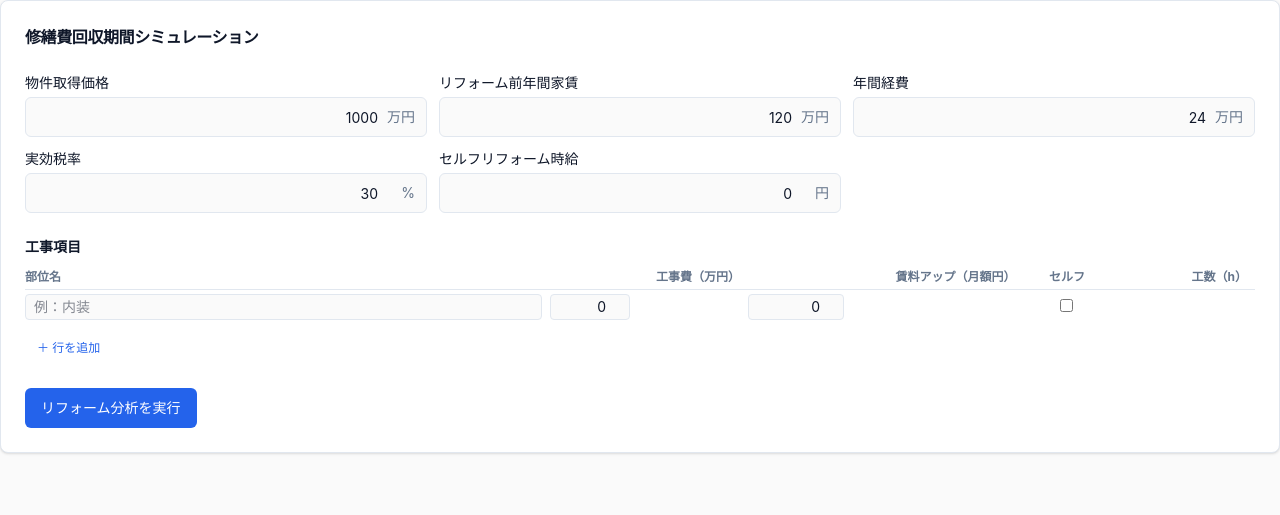
Test case: RenovationPanel › APIエラー時にエラーメッセージが表示される
The image size is (1280, 515).
Replace the text in the 1st number field with "100" at [590, 307], box x1=550 y1=294 x2=630 y2=320
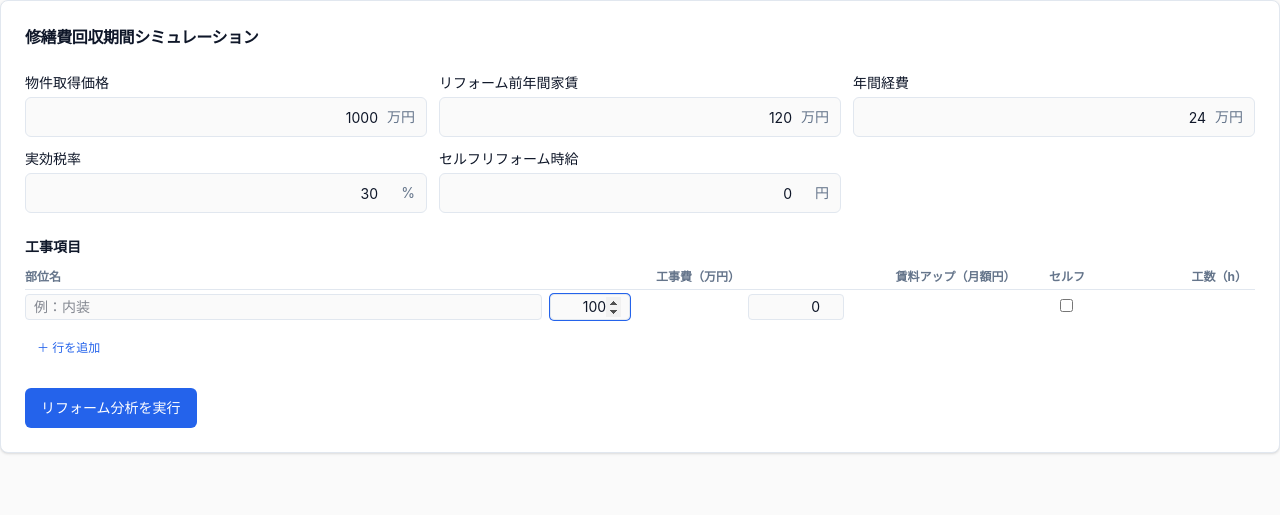
Click the button "リフォーム分析を実行".
click(111, 408)  # box x1=25 y1=388 x2=197 y2=428
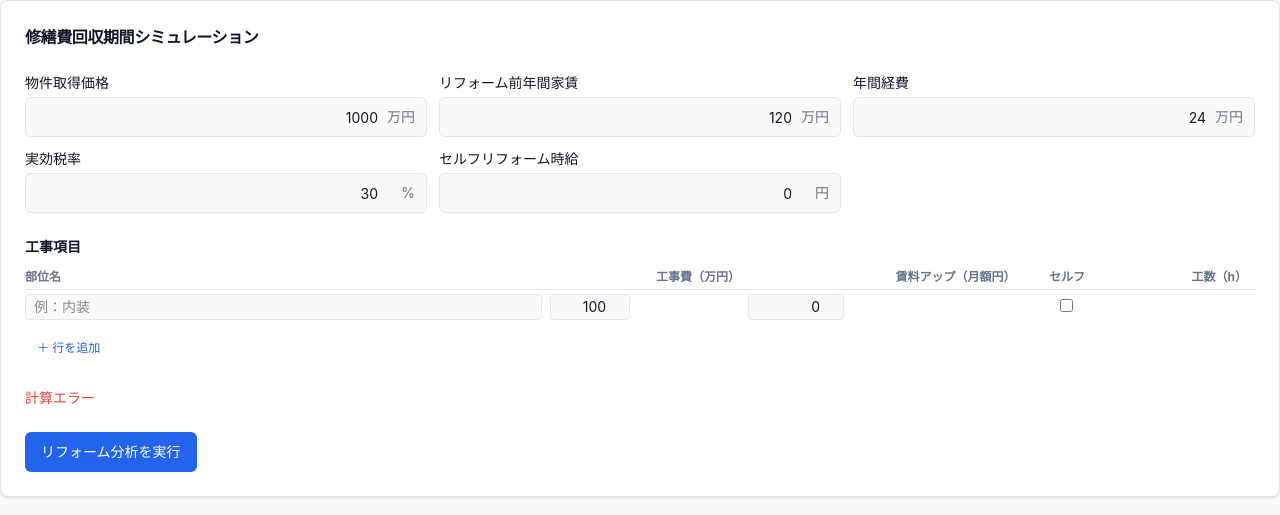
Expected: the text "計算エラー" is shown, x1=25 y1=389 x2=95 y2=406
